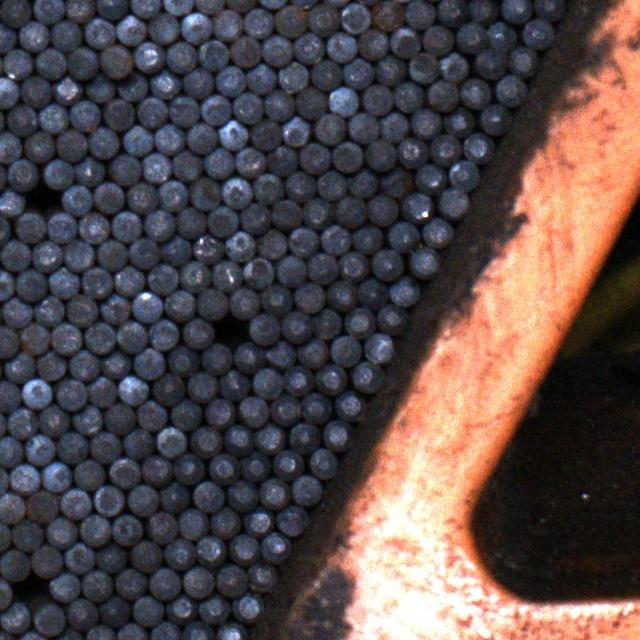tool: (130, 346, 166, 380), (420, 214, 456, 248), (106, 152, 142, 186), (230, 591, 264, 625), (387, 273, 422, 306), (124, 181, 159, 214), (99, 45, 134, 78), (494, 74, 529, 107), (350, 361, 386, 393), (370, 248, 406, 280), (214, 564, 248, 597), (136, 398, 170, 431), (83, 322, 117, 355), (227, 286, 260, 320), (15, 268, 48, 302), (65, 46, 98, 80), (307, 3, 341, 36), (58, 488, 93, 520), (165, 344, 200, 376), (461, 131, 496, 163), (80, 570, 113, 603), (145, 511, 178, 544), (334, 388, 367, 421), (13, 210, 46, 243), (110, 209, 143, 242), (165, 39, 198, 72), (17, 19, 50, 52), (32, 604, 66, 636), (182, 564, 214, 598), (192, 480, 226, 512), (102, 402, 136, 434), (169, 398, 203, 430), (67, 348, 101, 380), (295, 336, 329, 368), (50, 321, 82, 355), (64, 294, 98, 326), (130, 291, 164, 323), (261, 282, 293, 316), (146, 263, 180, 295), (351, 222, 385, 254), (408, 247, 442, 279), (5, 159, 39, 191), (22, 131, 56, 163), (298, 142, 330, 176), (294, 86, 326, 120), (260, 34, 292, 68), (455, 21, 487, 55), (152, 426, 187, 457), (436, 188, 471, 219), (66, 598, 99, 630), (44, 516, 77, 548), (78, 514, 111, 546), (148, 567, 180, 600), (163, 538, 196, 570), (228, 533, 260, 566), (260, 532, 293, 564), (242, 505, 275, 537), (275, 504, 308, 536), (127, 484, 159, 517), (226, 479, 259, 511), (108, 456, 140, 489), (140, 454, 173, 486), (272, 448, 304, 481), (89, 431, 122, 463), (253, 422, 286, 454), (238, 395, 270, 428), (218, 368, 251, 400), (1, 352, 34, 384), (210, 258, 243, 290), (275, 255, 307, 288), (0, 239, 32, 272), (386, 220, 419, 252), (175, 206, 208, 238), (189, 177, 221, 210), (147, 12, 180, 44), (364, 140, 397, 172), (443, 106, 476, 138), (393, 80, 425, 113), (274, 4, 306, 37), (0, 548, 31, 582), (31, 544, 62, 578), (247, 560, 278, 594), (363, 332, 397, 363), (182, 316, 213, 350), (80, 267, 114, 298), (95, 239, 129, 270), (86, 127, 120, 158), (6, 102, 37, 136), (370, 0, 404, 31), (314, 364, 349, 394), (191, 233, 226, 263), (26, 490, 58, 522), (24, 434, 56, 466), (56, 431, 88, 463), (112, 513, 144, 545), (222, 424, 254, 456), (300, 391, 332, 423), (201, 342, 233, 374), (294, 282, 326, 314), (49, 266, 81, 298), (46, 212, 78, 244), (207, 205, 239, 237), (61, 183, 93, 215), (316, 168, 348, 200), (397, 136, 429, 168), (430, 134, 462, 166), (347, 112, 379, 144), (480, 103, 512, 135), (232, 91, 264, 123), (264, 89, 296, 121), (277, 60, 309, 92), (373, 54, 405, 86), (406, 51, 438, 83), (292, 31, 324, 63), (325, 31, 357, 63), (197, 593, 230, 624), (177, 508, 208, 541), (189, 426, 222, 457), (0, 297, 33, 328), (326, 279, 359, 310), (334, 196, 367, 227), (69, 100, 102, 131), (102, 98, 135, 129), (115, 13, 146, 46), (245, 63, 278, 94), (387, 27, 420, 58), (521, 18, 554, 49), (163, 594, 197, 624), (130, 540, 164, 570), (151, 374, 185, 404), (249, 312, 279, 346), (163, 290, 197, 320), (197, 286, 227, 320), (36, 46, 66, 80), (420, 25, 454, 55), (0, 600, 31, 632), (49, 570, 80, 602), (41, 460, 72, 492), (38, 404, 70, 435), (208, 507, 240, 538), (238, 451, 270, 482), (322, 419, 353, 451), (71, 403, 102, 435), (204, 396, 235, 428), (251, 367, 283, 398), (18, 322, 49, 354), (117, 321, 148, 353), (280, 311, 311, 343), (311, 307, 342, 339), (344, 307, 376, 338), (32, 296, 64, 327), (98, 292, 129, 324), (243, 257, 274, 289), (338, 249, 369, 281), (63, 240, 95, 271), (286, 226, 318, 257), (78, 212, 109, 244), (271, 198, 302, 230), (367, 194, 398, 226), (94, 182, 125, 214), (381, 166, 413, 197), (415, 163, 447, 194), (42, 159, 73, 191), (121, 125, 153, 156), (136, 96, 167, 128), (168, 94, 199, 126), (200, 94, 232, 125), (20, 76, 51, 108), (182, 66, 214, 97), (132, 42, 164, 73), (180, 12, 212, 43), (232, 147, 264, 178), (314, 112, 345, 144), (328, 86, 360, 117), (428, 80, 460, 111), (216, 66, 247, 98), (310, 59, 342, 90), (438, 51, 470, 82), (475, 48, 507, 79), (509, 45, 540, 77), (228, 36, 260, 67), (10, 520, 43, 550), (7, 464, 40, 494), (157, 482, 190, 512), (115, 375, 148, 405), (33, 352, 66, 382), (113, 266, 146, 296), (319, 224, 352, 254), (222, 176, 252, 209), (448, 160, 481, 190), (52, 75, 85, 105), (116, 70, 149, 100), (49, 20, 82, 50), (379, 109, 409, 142), (409, 108, 442, 138), (486, 21, 516, 54), (172, 454, 206, 483), (7, 408, 38, 439), (114, 568, 145, 599), (196, 535, 227, 566), (122, 428, 153, 459), (186, 371, 217, 402), (265, 339, 296, 370), (148, 319, 179, 350), (32, 241, 63, 272), (129, 238, 160, 269), (349, 167, 380, 198), (83, 71, 114, 102), (202, 149, 233, 180), (362, 84, 393, 115), (99, 596, 131, 626), (288, 422, 320, 452), (233, 342, 265, 372), (160, 234, 192, 264), (143, 210, 175, 240), (240, 202, 270, 234), (170, 150, 202, 180), (55, 130, 87, 160), (153, 124, 185, 154), (186, 123, 218, 153), (38, 102, 68, 134), (150, 68, 182, 98), (332, 142, 364, 172), (250, 117, 280, 149), (358, 28, 388, 60), (212, 10, 244, 40), (243, 7, 273, 39), (289, 475, 322, 504), (272, 392, 300, 426), (64, 542, 94, 573), (93, 486, 124, 516), (73, 459, 104, 489), (209, 452, 239, 483), (307, 448, 338, 478), (56, 380, 87, 410), (331, 336, 361, 367), (308, 253, 338, 284), (460, 77, 490, 108), (340, 2, 370, 33), (102, 347, 131, 379), (377, 305, 409, 334), (359, 276, 388, 308), (252, 174, 284, 203), (401, 192, 433, 221), (266, 146, 298, 175), (95, 544, 128, 572), (133, 596, 163, 626), (259, 478, 289, 508), (22, 379, 52, 409), (284, 365, 314, 395), (256, 228, 286, 258), (302, 198, 332, 228), (342, 58, 372, 88), (180, 262, 211, 291), (141, 152, 170, 183), (2, 49, 33, 78), (199, 40, 228, 71), (219, 119, 248, 150), (404, 0, 435, 29), (159, 180, 187, 212), (73, 157, 105, 185), (87, 377, 116, 407), (226, 231, 256, 260), (286, 171, 316, 200), (85, 18, 115, 47), (280, 118, 311, 146), (437, 0, 469, 27), (0, 493, 26, 524), (0, 0, 31, 26), (0, 186, 25, 218), (500, 0, 533, 24), (213, 619, 249, 640), (0, 130, 22, 164), (0, 435, 23, 467), (468, 0, 498, 24), (33, 0, 64, 23), (64, 0, 97, 21), (533, 0, 567, 20), (0, 381, 21, 412), (150, 620, 182, 640), (182, 620, 214, 640), (116, 622, 149, 640), (0, 76, 18, 108), (96, 0, 128, 18), (129, 0, 162, 17), (0, 326, 18, 357), (0, 268, 15, 302), (84, 625, 116, 640), (0, 22, 16, 52), (162, 0, 194, 15), (194, 0, 226, 13), (0, 578, 13, 609)
void: (205, 304, 260, 356), (25, 182, 63, 216), (11, 574, 52, 605)
